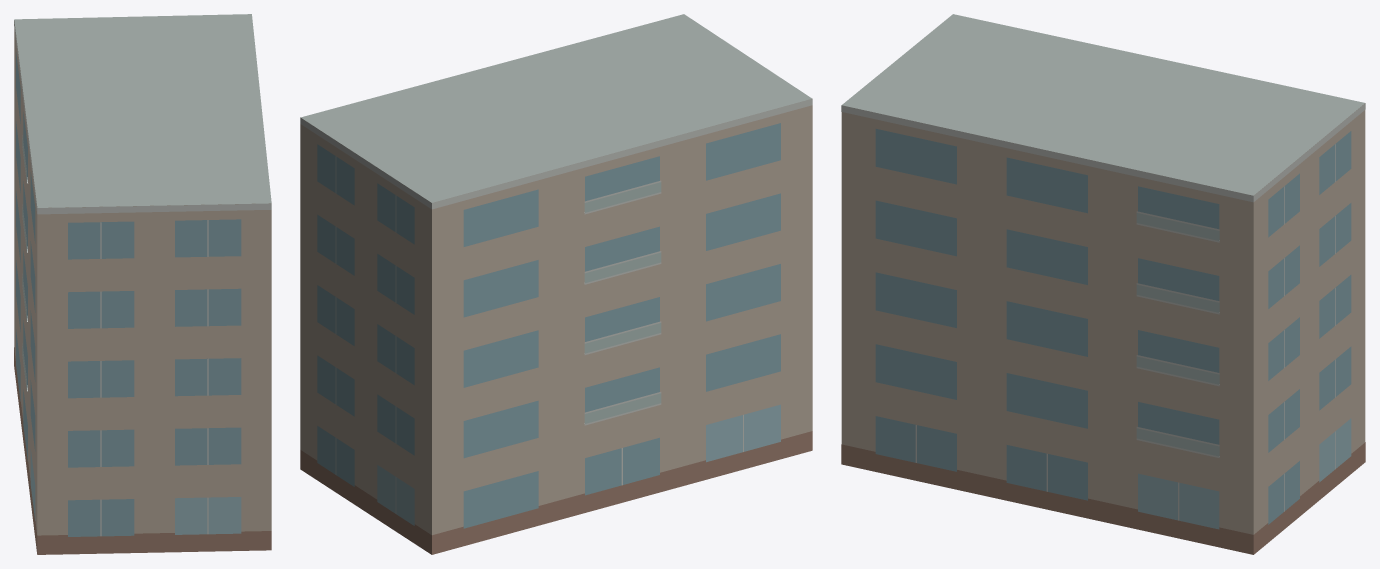
Rendered from survey-upis-33028174.glb.
The picture shows the model from 3 angles, left to right: view 1: azimuth 30°, elevation 25°; view 2: azimuth 150°, elevation 25°; view 3: azimuth 270°, elevation 25°; orthographic projection. The views are drawn at different scales.
Visible parts, largest first — view 1: survey-upis-33028174.tmp; view 2: survey-upis-33028174.tmp; view 3: survey-upis-33028174.tmp.
Boxes of the visible parts, box(x1,y1,x2,y2) form: survey-upis-33028174.tmp: box(14, 14, 271, 554); survey-upis-33028174.tmp: box(300, 14, 812, 554); survey-upis-33028174.tmp: box(841, 14, 1365, 554).
Size of the model in its own units: 14.33 by 13.2 by 17.46.
